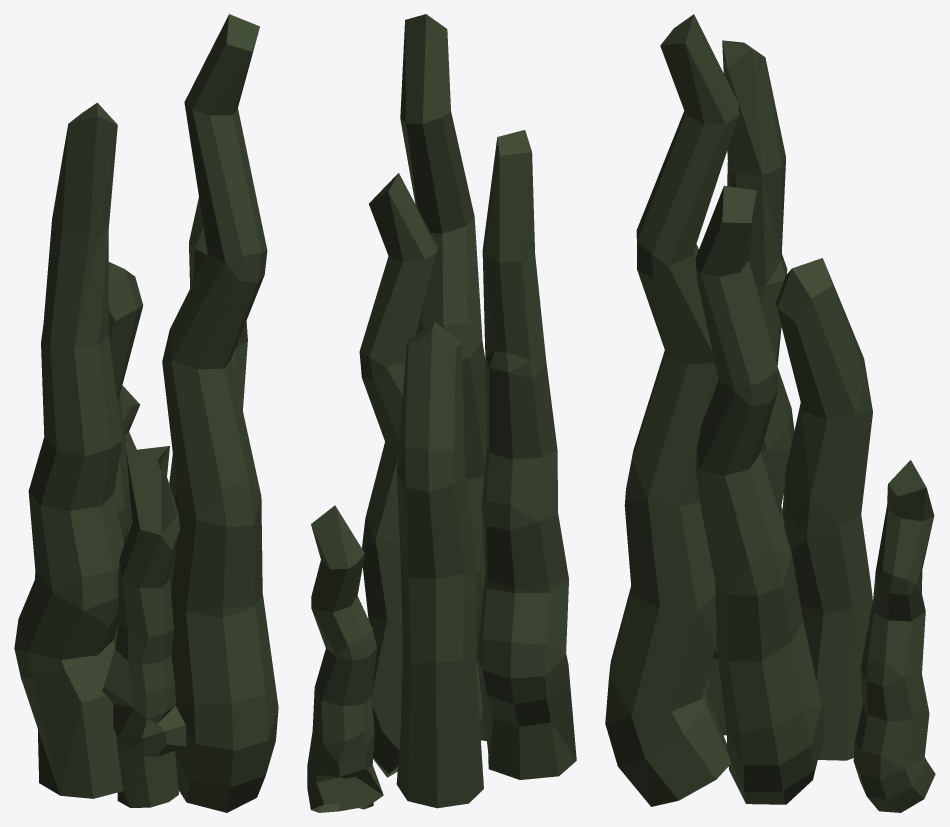
File: EA_Swamp_Grass_Dead_03c.glb
The picture shows the model from 3 angles, left to right: view 1: azimuth 30°, elevation 25°; view 2: azimuth 150°, elevation 25°; view 3: azimuth 270°, elevation 25°; orthographic projection. The views are drawn at different scales.
Visible parts, largest first — view 1: EA_Swamp_Grass_Dead_03c; view 2: EA_Swamp_Grass_Dead_03c; view 3: EA_Swamp_Grass_Dead_03c.
Part boxes in pixels (bbox=[...]): EA_Swamp_Grass_Dead_03c: bbox=[14, 14, 278, 812]; EA_Swamp_Grass_Dead_03c: bbox=[307, 14, 576, 812]; EA_Swamp_Grass_Dead_03c: bbox=[605, 14, 935, 812].
Bounding box in the file's own units: 0.3199 × 1.1 × 0.415.
Materials: 1 (1 with a texture image).
